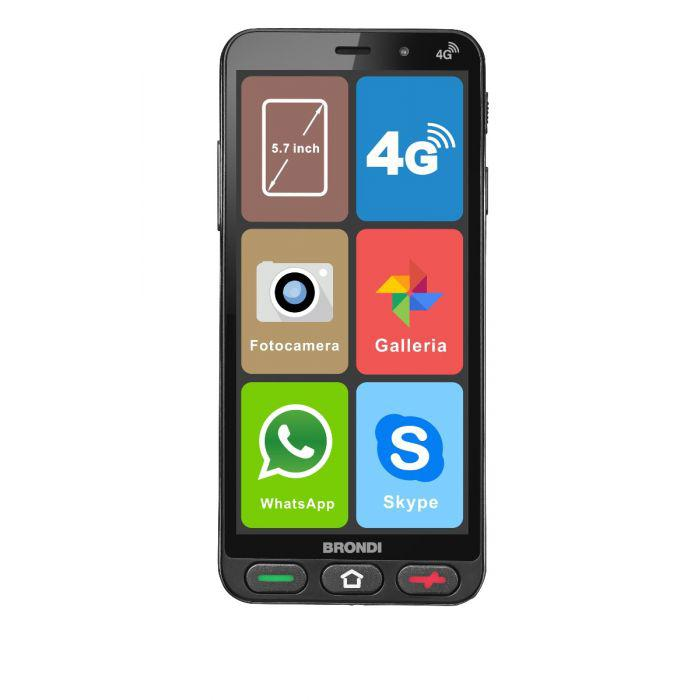Smartphone: (212, 31, 482, 604)
